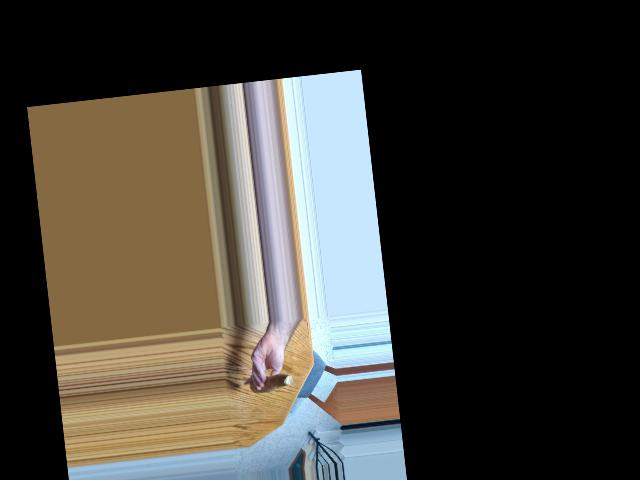sweet_potato: (253, 368, 292, 395)
